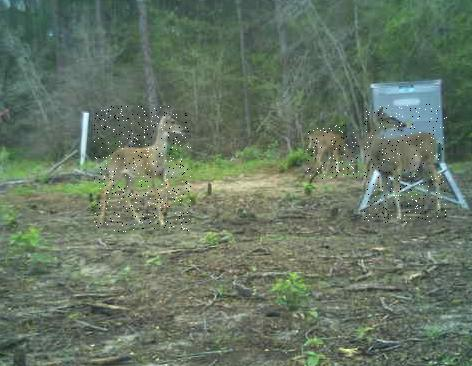Deer: (94, 107, 191, 233), (364, 104, 447, 224), (307, 125, 359, 179)
